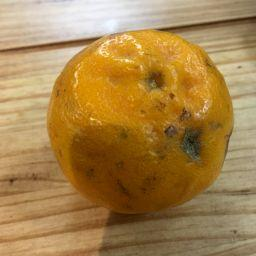Unripe: (49, 29, 234, 213)
